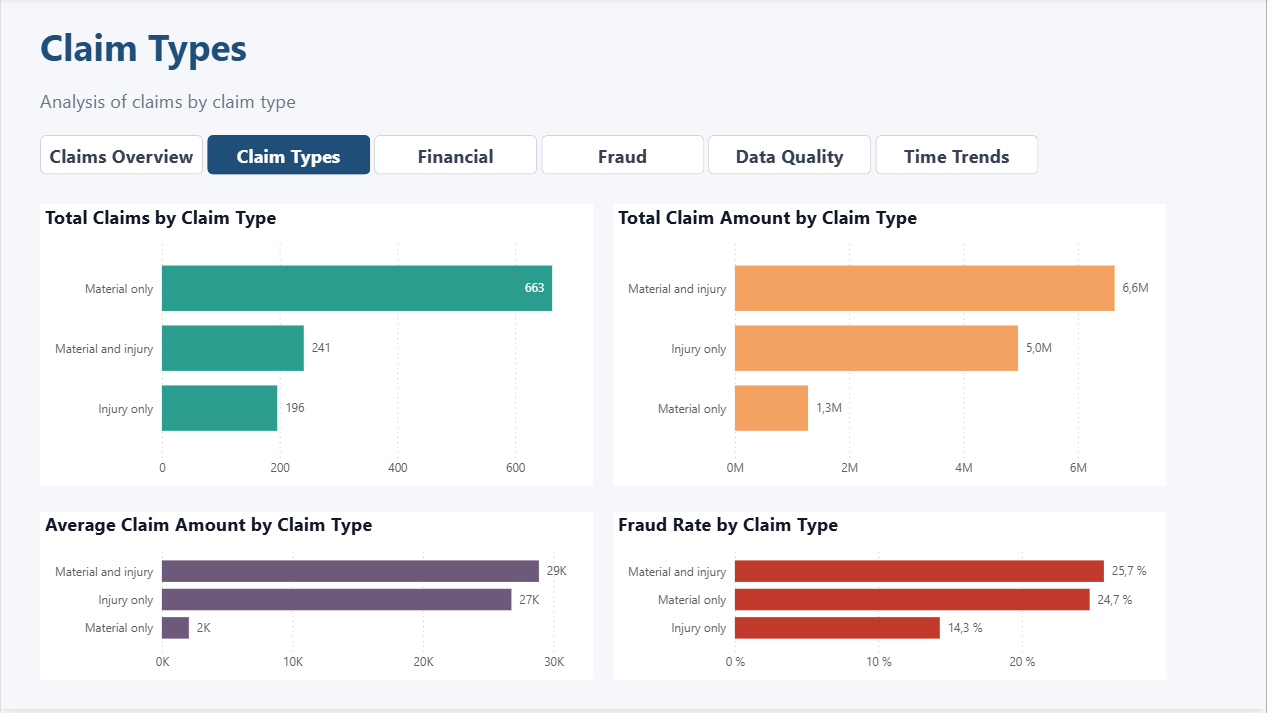

The page's visual inventory and layout, read from the dashboard file:
{"tool":"powerbi","page":{"name":"Claim Types","canvas":[1280,720],"ordinal":1},"visuals":[{"type":"textbox","box":[40,25,800,70],"z":0},{"type":"textbox","box":[40,92,600,26],"z":1000},{"type":"pageNavigator","box":[40,140,1010,40],"z":2000},{"type":"barChart","title":"Total Claims by Claim Type","fields":{"Category":["claims_clean.claim_type"],"Y":["_measures.Total Claims"]},"box":[40,210,560,285],"z":3000},{"type":"barChart","title":"Total Claim Amount by Claim Type","fields":{"Category":["claims_clean.claim_type"],"Y":["_measures.Total Claim Amount"]},"box":[620,210,560.3,285],"z":4000},{"type":"barChart","title":"Average Claim Amount by Claim Type","fields":{"Category":["claims_clean.claim_type"],"Y":["_measures.Average Claim Amount"]},"box":[40,520,560.3,170],"z":5000},{"type":"barChart","title":"Fraud Rate by Claim Type","fields":{"Category":["claims_clean.claim_type"],"Y":["_measures.Fraud Rate"]},"box":[620,520,560.3,170],"z":6000}]}

Visuals, with their boxes in screenshot pixels (x1, y1, x2, y2), scaled from the page's 1280x720 canvas onto the 1269x713 screenshot:
textbox: (x1=40, y1=25, x2=833, y2=94)
textbox: (x1=40, y1=91, x2=634, y2=117)
pageNavigator: (x1=40, y1=139, x2=1041, y2=178)
"Total Claims by Claim Type" barChart: (x1=40, y1=208, x2=595, y2=490)
"Total Claim Amount by Claim Type" barChart: (x1=615, y1=208, x2=1170, y2=490)
"Average Claim Amount by Claim Type" barChart: (x1=40, y1=515, x2=595, y2=683)
"Fraud Rate by Claim Type" barChart: (x1=615, y1=515, x2=1170, y2=683)
